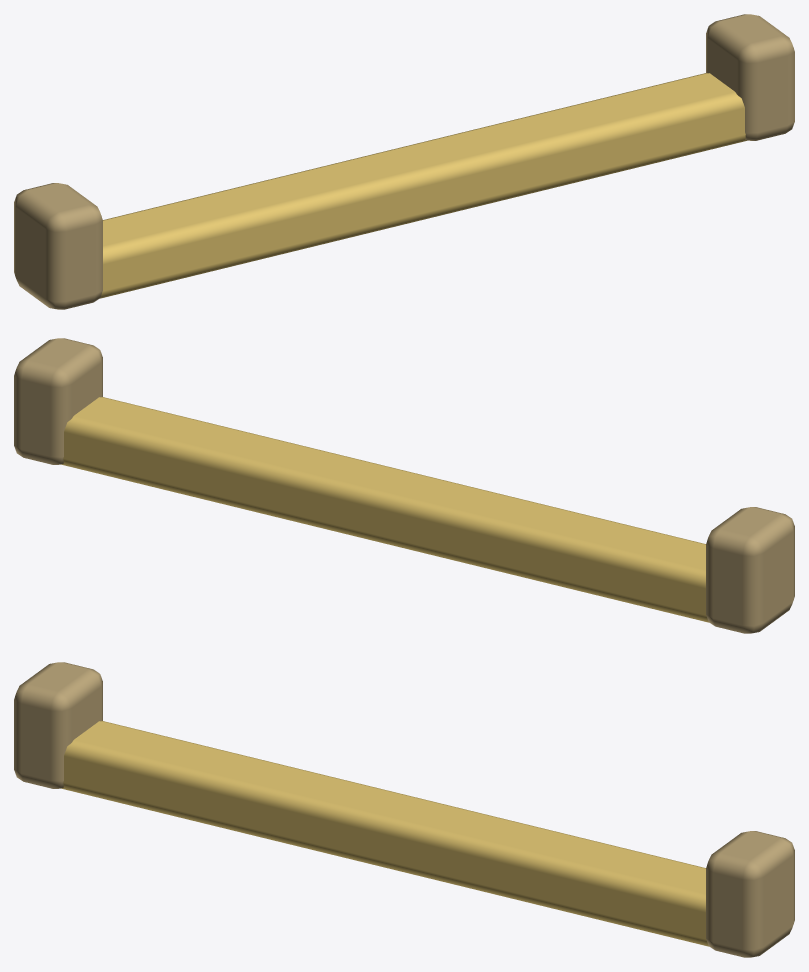
Rendered from imperial-china-palace-and-garden-roof-ridge-run-84174949__36178.glb.
The picture shows the model from 3 angles, top to bottom: view 1: azimuth 30°, elevation 25°; view 2: azimuth 150°, elevation 25°; view 3: azimuth 330°, elevation 25°; orthographic projection.
Parts seen in each view (by area): view 1: roof-ridge-run; view 2: roof-ridge-run; view 3: roof-ridge-run.
Part boxes in pixels (x1=…): roof-ridge-run: x1=14, y1=14, x2=794, y2=309; roof-ridge-run: x1=14, y1=338, x2=794, y2=633; roof-ridge-run: x1=14, y1=662, x2=794, y2=957.
Size of the model in its own units: 4 by 0.5001 by 0.4199.
